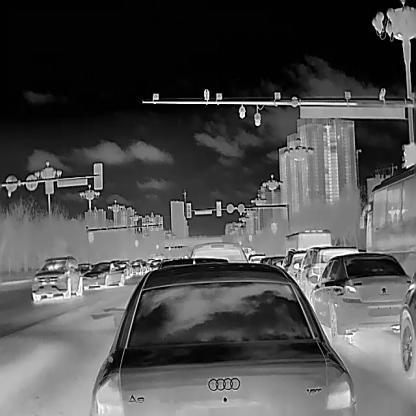car: (88, 259, 356, 415), (308, 250, 415, 342), (359, 161, 416, 280), (293, 244, 358, 303), (31, 255, 83, 301), (399, 274, 416, 378), (81, 261, 126, 290), (190, 241, 248, 263), (283, 227, 331, 252), (275, 243, 311, 276), (129, 259, 144, 275), (260, 256, 284, 265), (76, 262, 91, 276), (247, 252, 266, 262), (148, 259, 162, 271)
